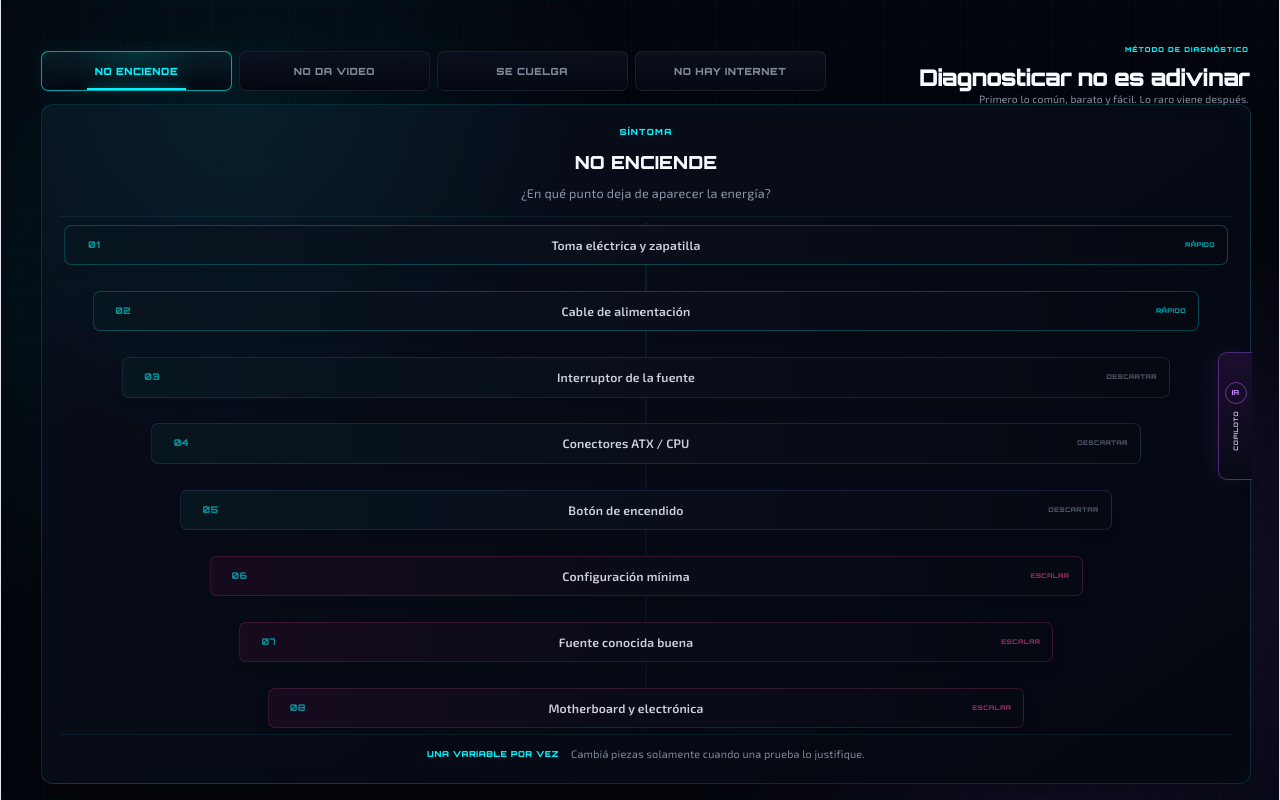
Test: DiagnosticMindsetScene › cambia el recorrido al seleccionar otro síntoma
Click the button "NO DA VIDEO" at (334, 71), box x1=239 y1=51 x2=430 y2=91
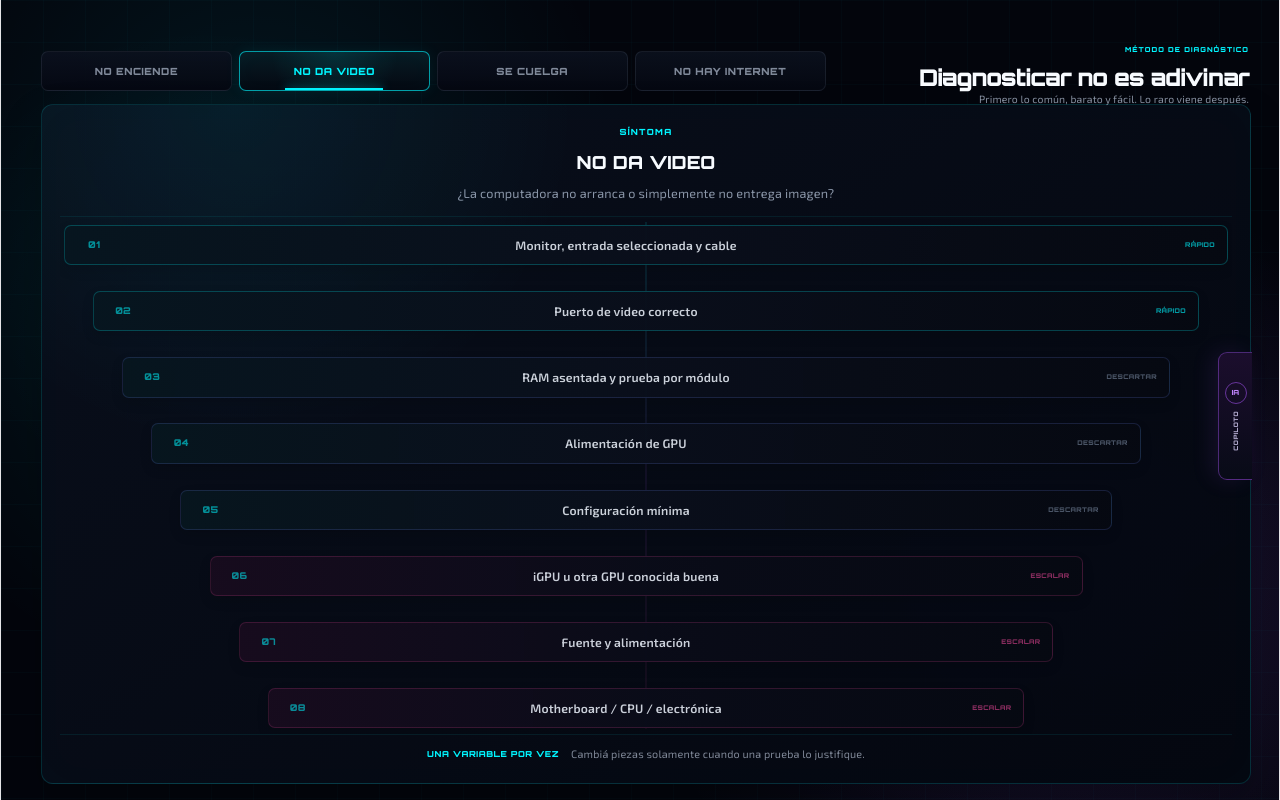
Check: the element with test id "diagnostic-focus" shows "cable", box x1=515 y1=238 x2=737 y2=252
Check: the element with test id "diagnostic-focus" shows "RAM", box x1=522 y1=370 x2=730 y2=384
Click the button "NO HAY INTERNET" at (730, 71), box x1=635 y1=51 x2=826 y2=91
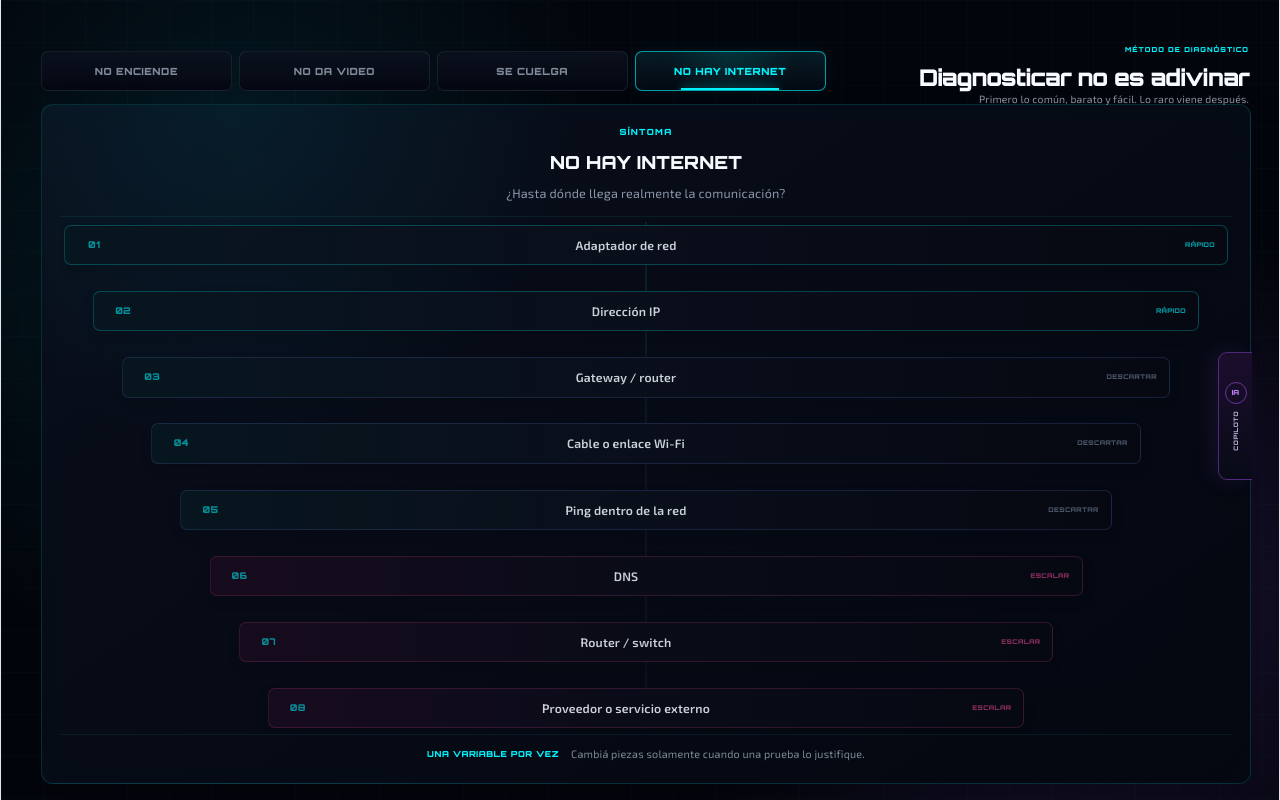
Check: the element with test id "diagnostic-focus" shows "IP", box x1=592 y1=304 x2=660 y2=318
Check: the element with test id "diagnostic-focus" shows "DNS", box x1=614 y1=569 x2=638 y2=583
